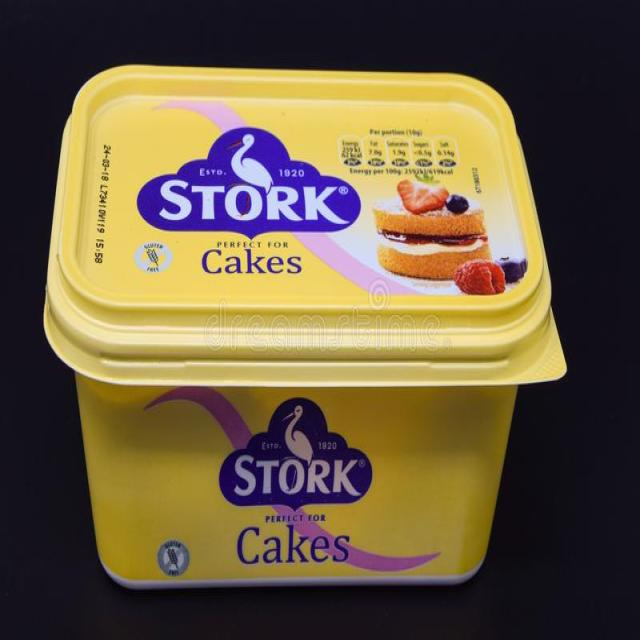plastic: (36, 59, 557, 598)
